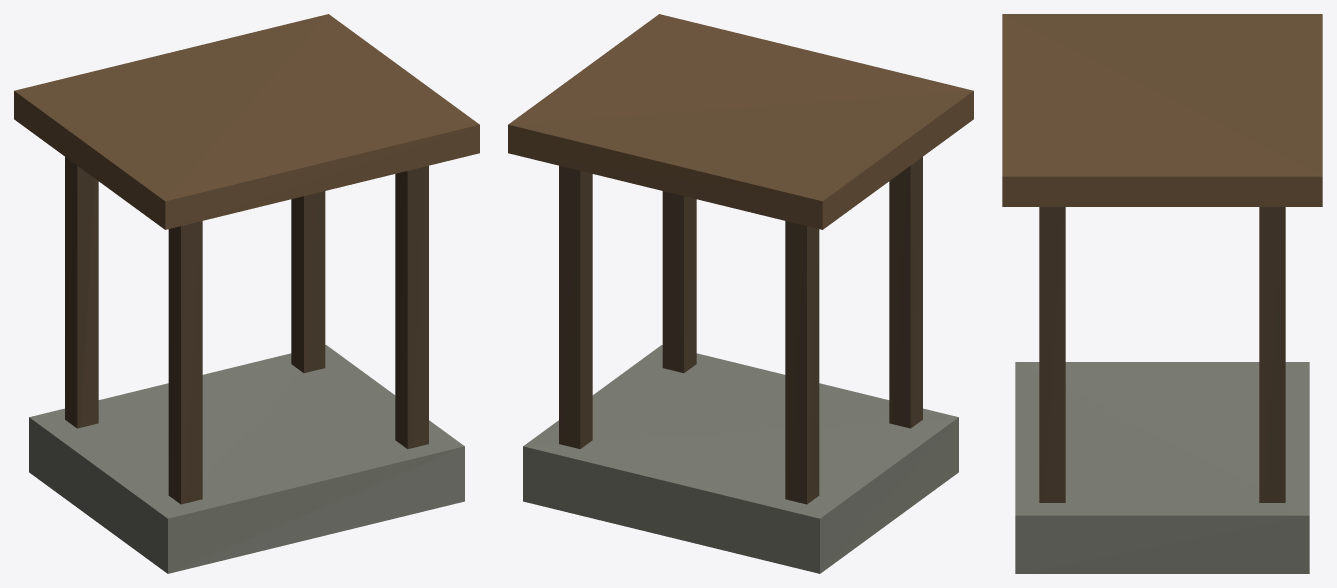
Rendered from SUP-03-2.glb.
3 renders of one model, left to right at view 1: azimuth 30°, elevation 25°; view 2: azimuth 150°, elevation 25°; view 3: azimuth 270°, elevation 25°, orthographic. The views are drawn at different scales.
Visible parts, largest first — view 1: city-details/SUP-03-2; view 2: city-details/SUP-03-2; view 3: city-details/SUP-03-2.
Part boxes in pixels (<box>): city-details/SUP-03-2: <box>14,14,479,573</box>; city-details/SUP-03-2: <box>508,14,973,573</box>; city-details/SUP-03-2: <box>1002,14,1322,573</box>.
Bounding box in the file's own units: 1.61 × 1.87 × 1.34.
